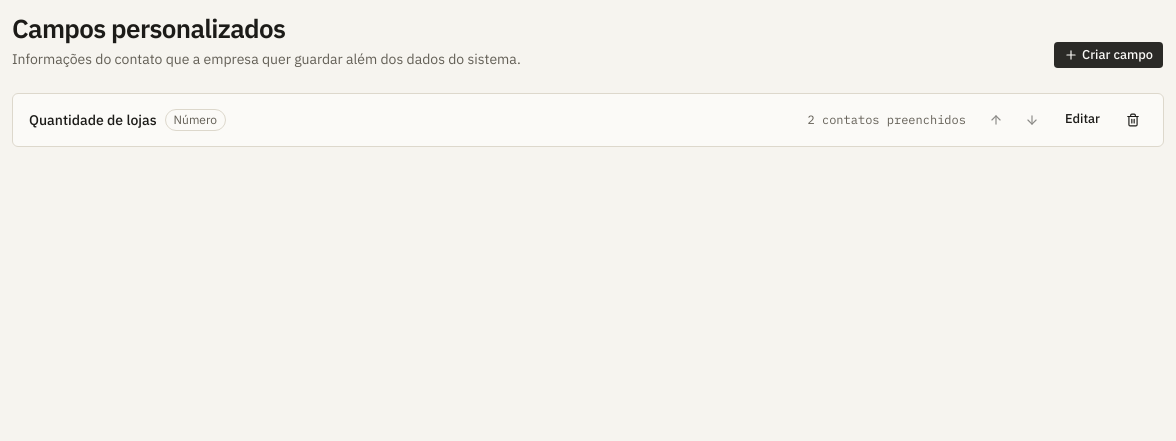
Test: B38-01 — campos personalizados na tela › CA-B38-08: should mostrar o tipo só para leitura no editor do campo
Click the button "Editar": (1082, 120) [1054,106,1111,134]
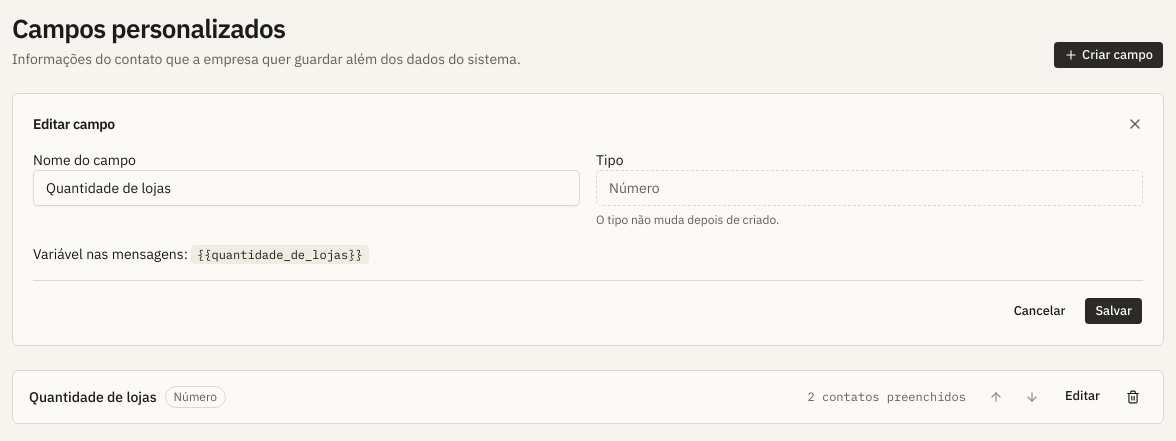
Expected: the 1st text "Número" is shown, [596,170,1143,206]
Expected: the text "O tipo não muda depois de criado." is shown, [596,212,779,226]
